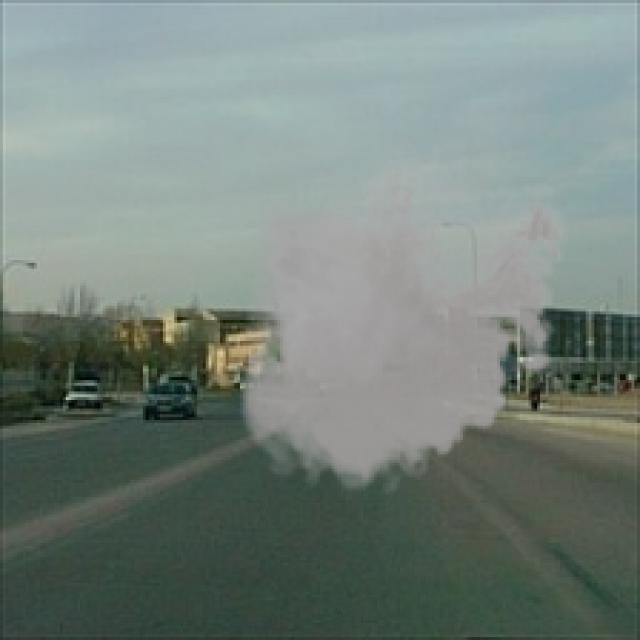Smoke: (228, 146, 574, 503)
